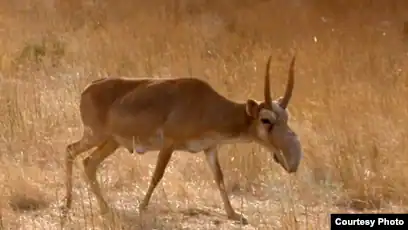saiga: (62, 50, 317, 227)
